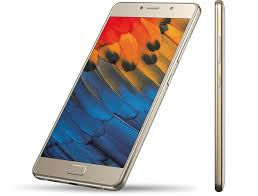lenovo: (27, 1, 203, 191)
